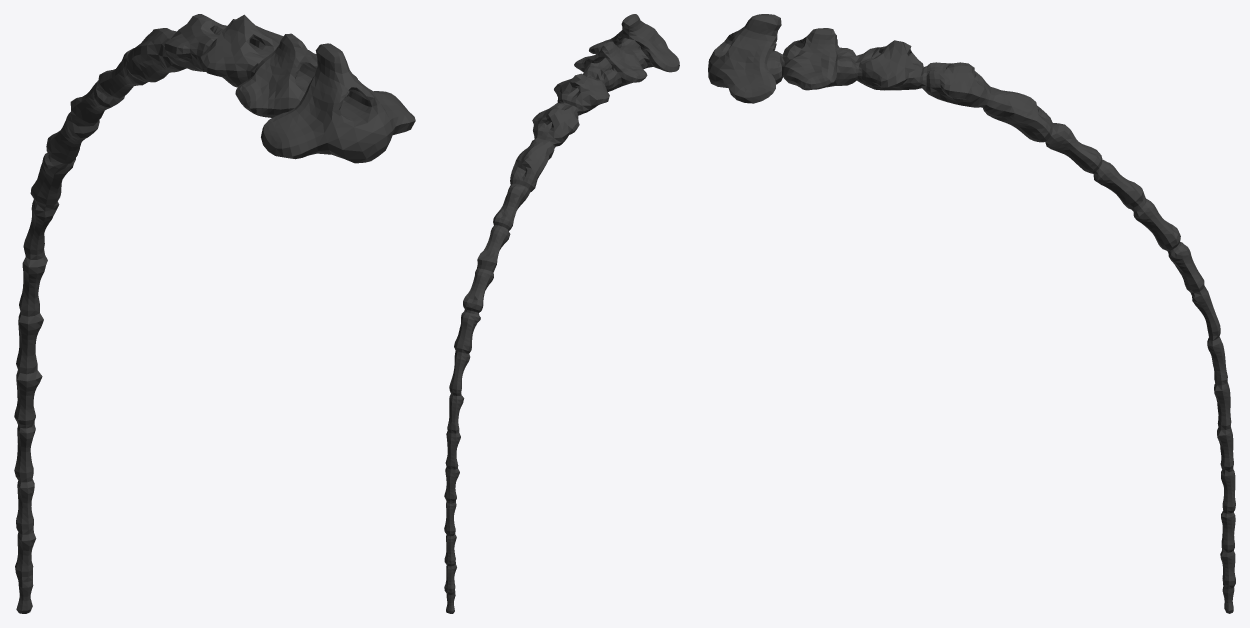
Rendered from COCCYG_VERTEBRAE.glb.
3 views of the same model, side by side, from view 1: azimuth 30°, elevation 25°; view 2: azimuth 150°, elevation 25°; view 3: azimuth 270°, elevation 25° (orthographic). The views are drawn at different scales.
Parts seen in each view (by area): view 1: COCCYG_VERTEBRAE; view 2: COCCYG_VERTEBRAE; view 3: COCCYG_VERTEBRAE.
Boxes of the visible parts, x1,y1,x2,y2 form: COCCYG_VERTEBRAE: (14, 14, 415, 613); COCCYG_VERTEBRAE: (444, 14, 679, 613); COCCYG_VERTEBRAE: (708, 14, 1235, 613).
Bounding box in the file's own units: 0.1122 × 0.6012 × 0.481.
1 material, 1 textured.
